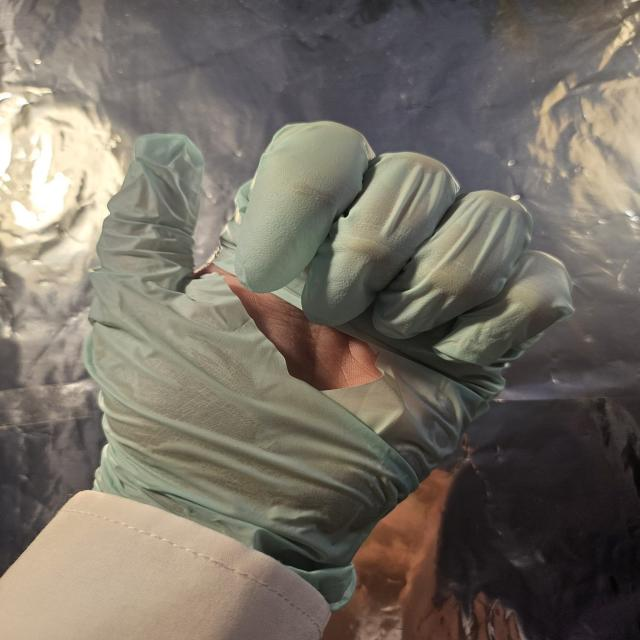gloves_damaged: (74, 117, 577, 600)
